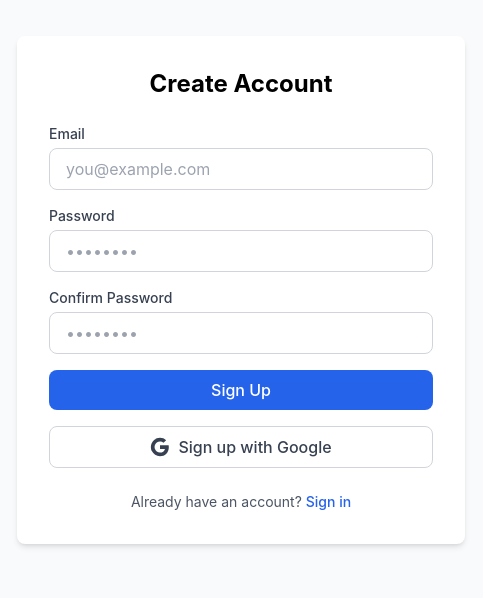
it: Signup › shows error when password is too short
The width and height of the screenshot is (483, 598).
Type "test@test.com" into the field labelled "Email" at {"x": 241, "y": 169}, box [49, 148, 433, 190]
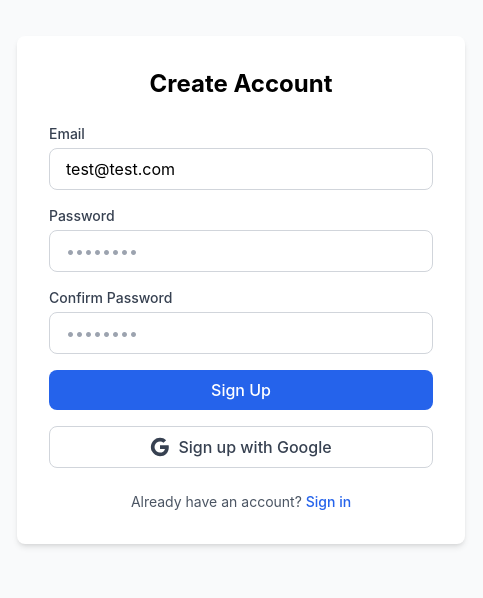
Type "123" into the password field labelled "Password" at {"x": 241, "y": 251}, box [49, 230, 433, 272]
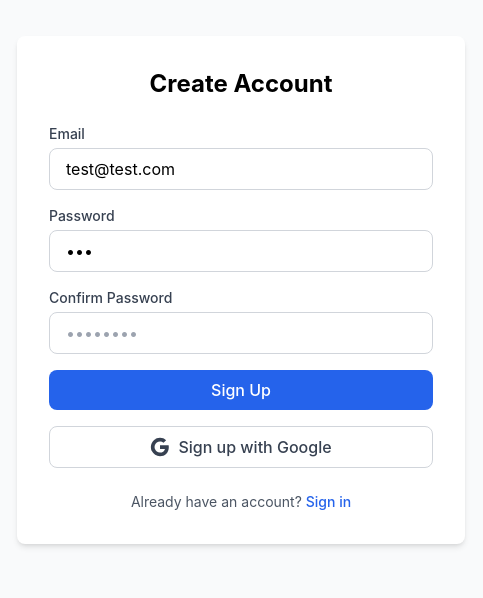
Type "123" into the password field labelled "Confirm Password" at {"x": 241, "y": 333}, box [49, 312, 433, 354]
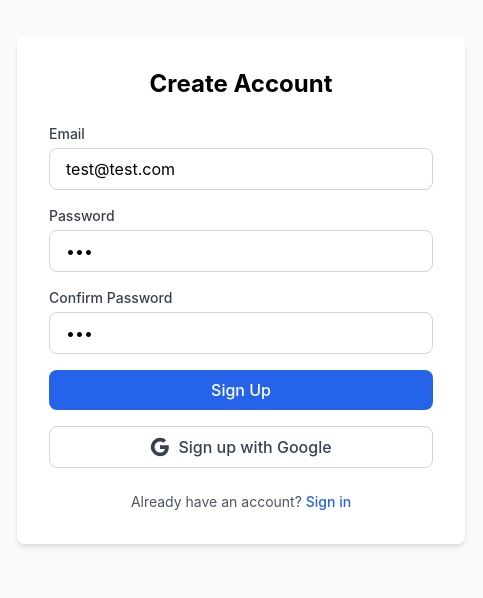
Click the button "Sign Up" at {"x": 241, "y": 390}, box [49, 370, 433, 410]
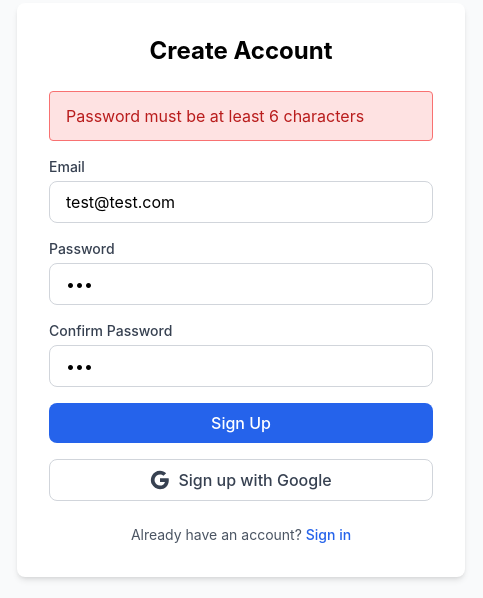
Result: the text "Password must be at least 6 characters" is shown at [49, 91, 433, 141]
